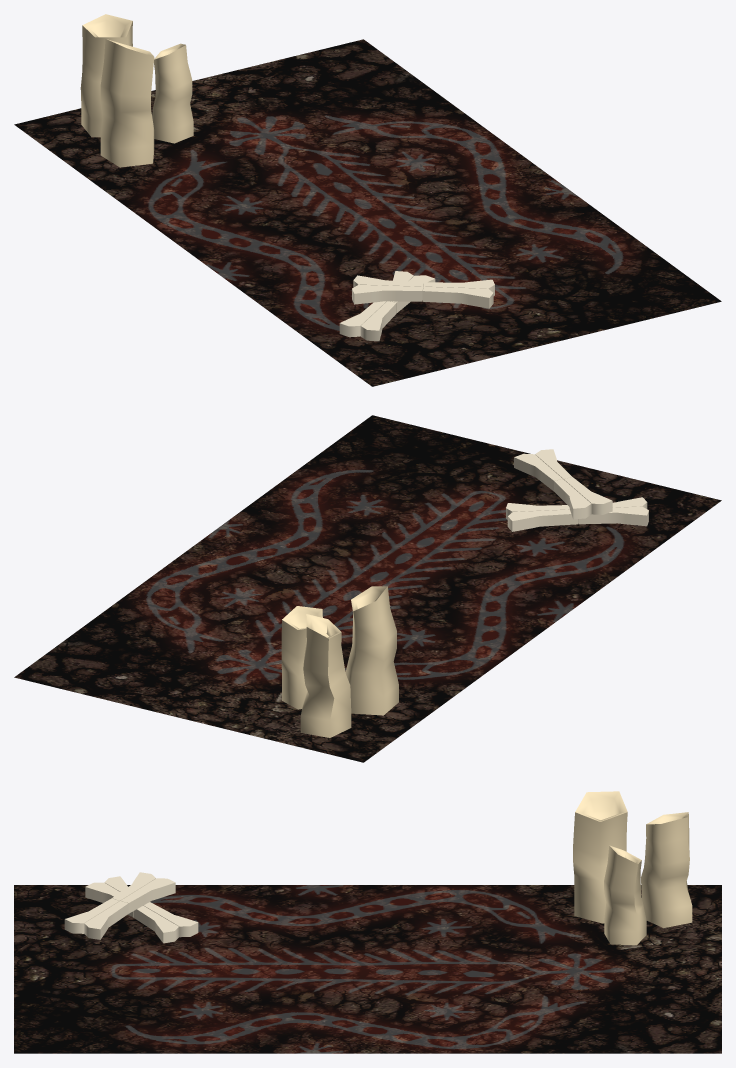
The model's file is VoodooTemplate.fbx.
3 views of the same model, one above another, from view 1: azimuth 30°, elevation 25°; view 2: azimuth 150°, elevation 25°; view 3: azimuth 270°, elevation 25° (orthographic).
Parts seen in each view (by area): view 1: BG, Cylinder, Cylinder_1, Bone_2, Cylinder_2, Bone_1; view 2: BG, Cylinder, Cylinder_2, Bone_1, Bone_2, Cylinder_1; view 3: BG, Cylinder, Cylinder_2, Cylinder_1, Bone_2, Bone_1.
Part boxes in pixels (x1=…): BG: x1=14, y1=39, x2=721, y2=386; Cylinder: x1=100, y1=39, x2=154, y2=167; Cylinder_1: x1=152, y1=43, x2=193, y2=143; Bone_2: x1=352, y1=275, x2=494, y2=308; Cylinder_2: x1=80, y1=14, x2=132, y2=137; Bone_1: x1=339, y1=271, x2=435, y2=341; BG: x1=14, y1=415, x2=721, y2=762; Cylinder: x1=345, y1=586, x2=398, y2=715; Cylinder_2: x1=300, y1=614, x2=351, y2=737; Bone_1: x1=506, y1=497, x2=648, y2=531; Bone_2: x1=514, y1=449, x2=612, y2=519; Cylinder_1: x1=281, y1=606, x2=322, y2=709; BG: x1=14, y1=885, x2=721, y2=1053; Cylinder: x1=573, y1=791, x2=627, y2=923; Cylinder_2: x1=641, y1=812, x2=692, y2=928; Cylinder_1: x1=604, y1=845, x2=646, y2=945; Bone_2: x1=64, y1=872, x2=175, y2=939; Bone_1: x1=85, y1=876, x2=198, y2=943.
Bounding box in the file's own units: 640 × 209 × 1136.
3 materials, 1 textured.
